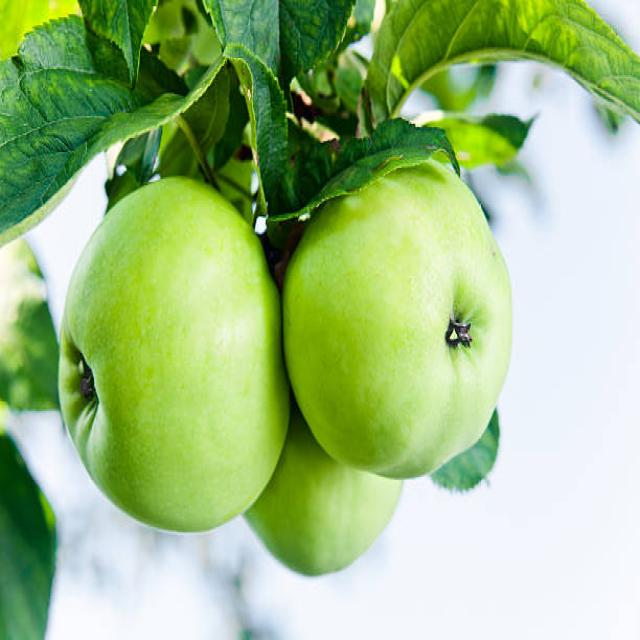Unripe: (59, 172, 290, 530), (284, 148, 514, 479)
